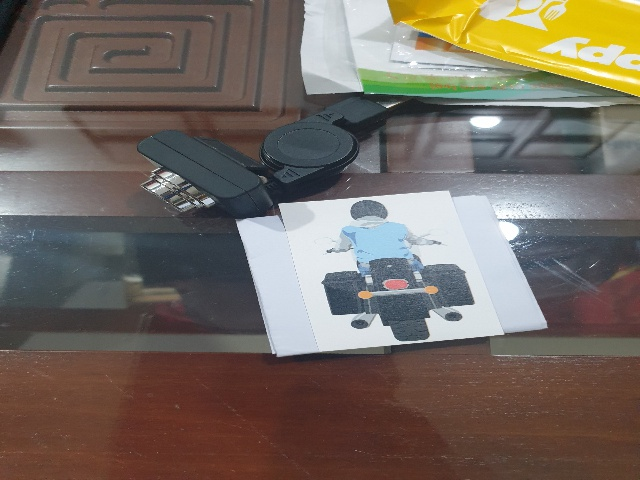Motorcycle: (306, 201, 476, 339)
